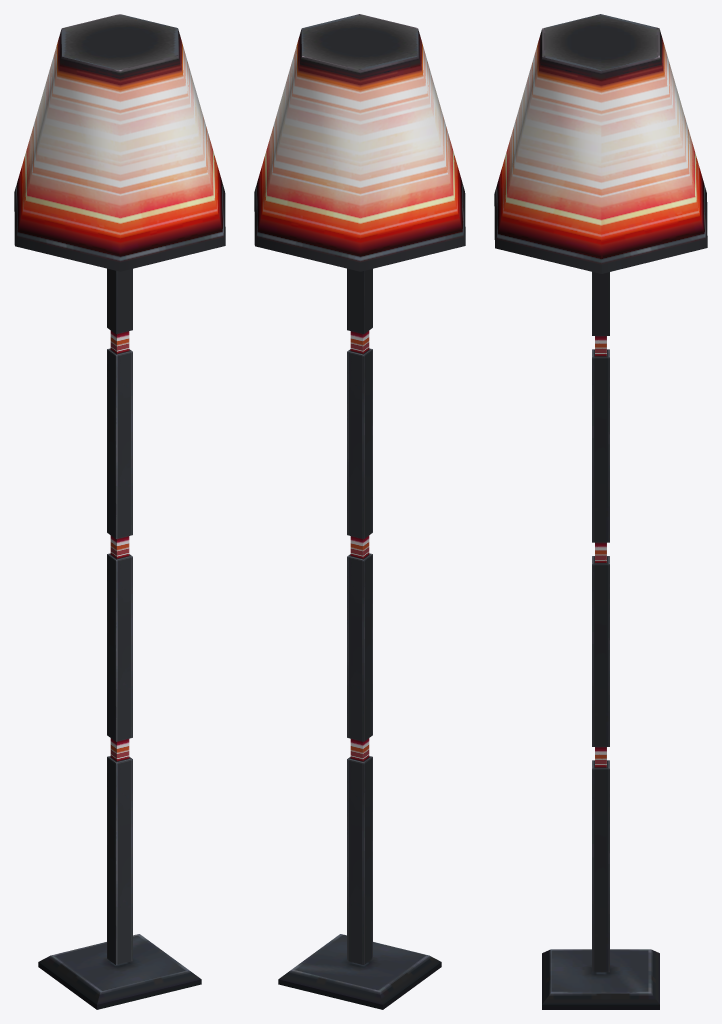
File: furni_0200603.FBX
3 renders of one model, left to right at view 1: azimuth 30°, elevation 25°; view 2: azimuth 150°, elevation 25°; view 3: azimuth 270°, elevation 25°, orthographic.
Visible parts, largest first — view 1: furni_0200603; view 2: furni_0200603; view 3: furni_0200603.
Part boxes in pixels (left/top/right/bottom): furni_0200603: left=14, top=14, right=225, bottom=1009; furni_0200603: left=254, top=14, right=465, bottom=1009; furni_0200603: left=494, top=14, right=707, bottom=1009.
Size of the model in its own units: 43.06 by 182 by 37.38.
1 material, 1 textured.
